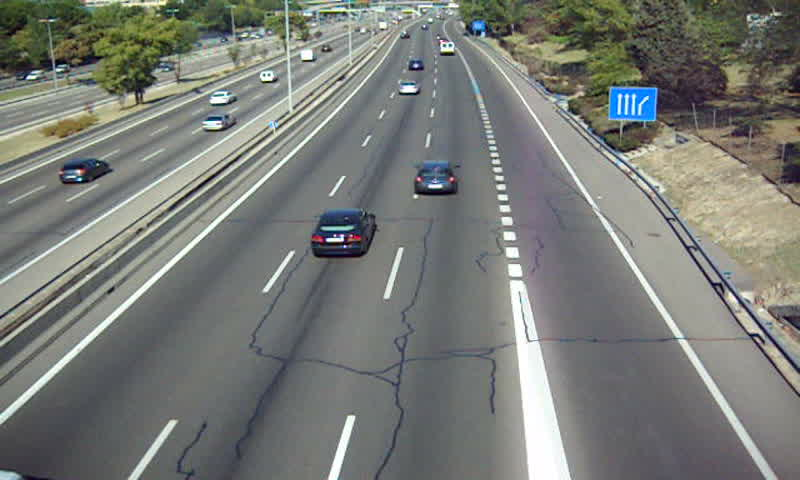car: (311, 210, 375, 258), (414, 162, 458, 195), (397, 80, 420, 96), (406, 60, 424, 75)
